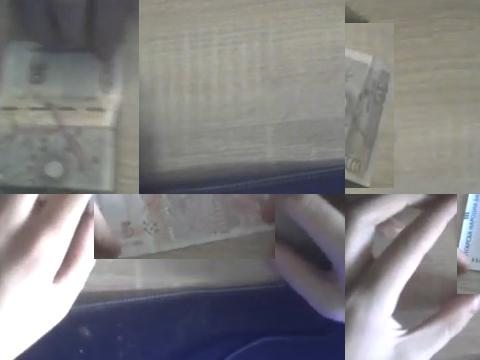10leva: (0, 0, 125, 194), (345, 46, 394, 188)
5leva: (94, 194, 275, 259)
